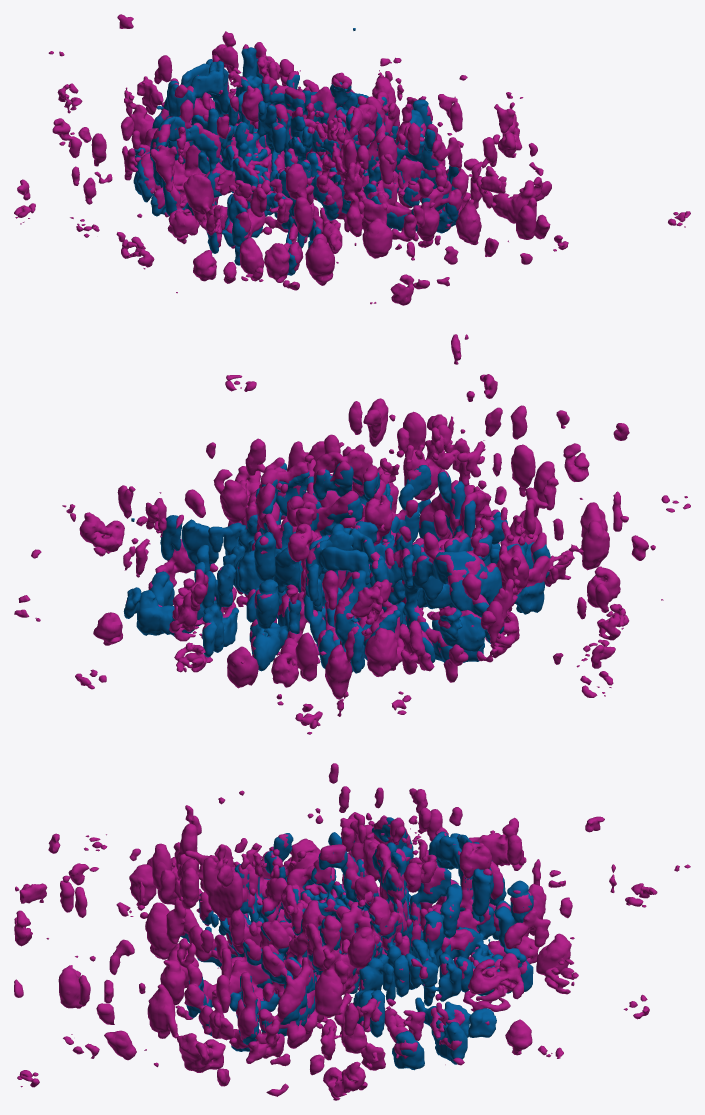
3 renders of one model, top to bottom at view 1: azimuth 30°, elevation 25°; view 2: azimuth 150°, elevation 25°; view 3: azimuth 270°, elevation 25°, orthographic. The views are drawn at different scales.
Parts seen in each view (by area): view 1: 300_96HR_tmre, 300_96HR_mito; view 2: 300_96HR_tmre, 300_96HR_mito; view 3: 300_96HR_tmre, 300_96HR_mito.
Part boxes in pixels (x1,y1,x2,y2): 300_96HR_tmre: (14, 14, 690, 305); 300_96HR_mito: (133, 28, 462, 275); 300_96HR_tmre: (14, 334, 690, 734); 300_96HR_mito: (123, 463, 550, 673); 300_96HR_tmre: (14, 763, 690, 1100); 300_96HR_mito: (180, 817, 533, 1070).
Size of the model in its own units: 39.55 by 10.04 by 41.75.
